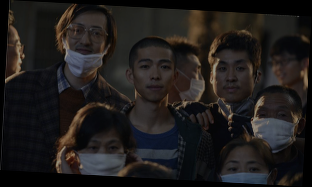mask_weared_incorrect: (64, 22, 108, 79)
with_mask: (251, 103, 297, 152), (75, 136, 128, 175), (220, 156, 270, 183), (174, 62, 207, 102)
without_mask: (212, 58, 255, 105), (133, 56, 175, 103), (271, 55, 301, 85), (7, 36, 26, 74)
